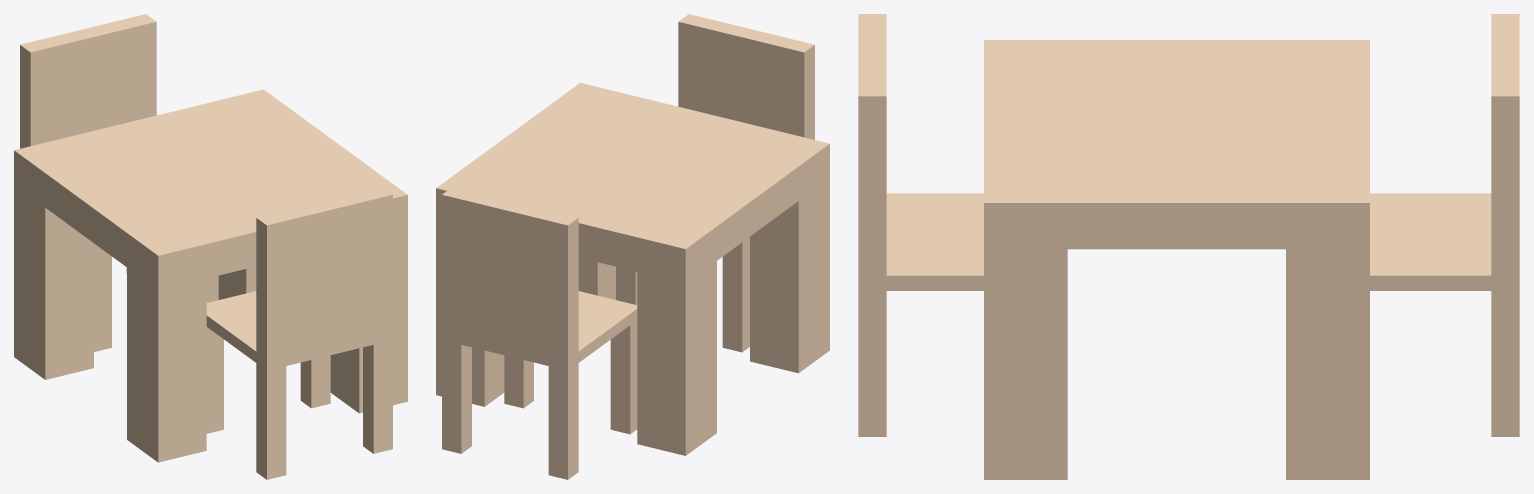
File: masasandalye.fbx
3 views of the same model, side by side, from view 1: azimuth 30°, elevation 25°; view 2: azimuth 150°, elevation 25°; view 3: azimuth 270°, elevation 25° (orthographic). The views are drawn at different scales.
Parts seen in each view (by area): view 1: Cube, Cube.002, Cube.001; view 2: Cube, Cube.001, Cube.002; view 3: Cube, Cube.001, Cube.002.
Part boxes in pixels (box(x1,y1,x2,y2)): Cube: box(14, 89, 407, 462); Cube.002: box(206, 187, 392, 479); Cube.001: box(20, 14, 218, 351); Cube: box(436, 82, 829, 455); Cube.001: box(442, 187, 637, 479); Cube.002: box(616, 14, 814, 352); Cube: box(984, 40, 1369, 479); Cube.001: box(1370, 14, 1519, 436); Cube.002: box(858, 14, 983, 436).
Bounding box in the file's own units: 50 × 49.07 × 85.66.
